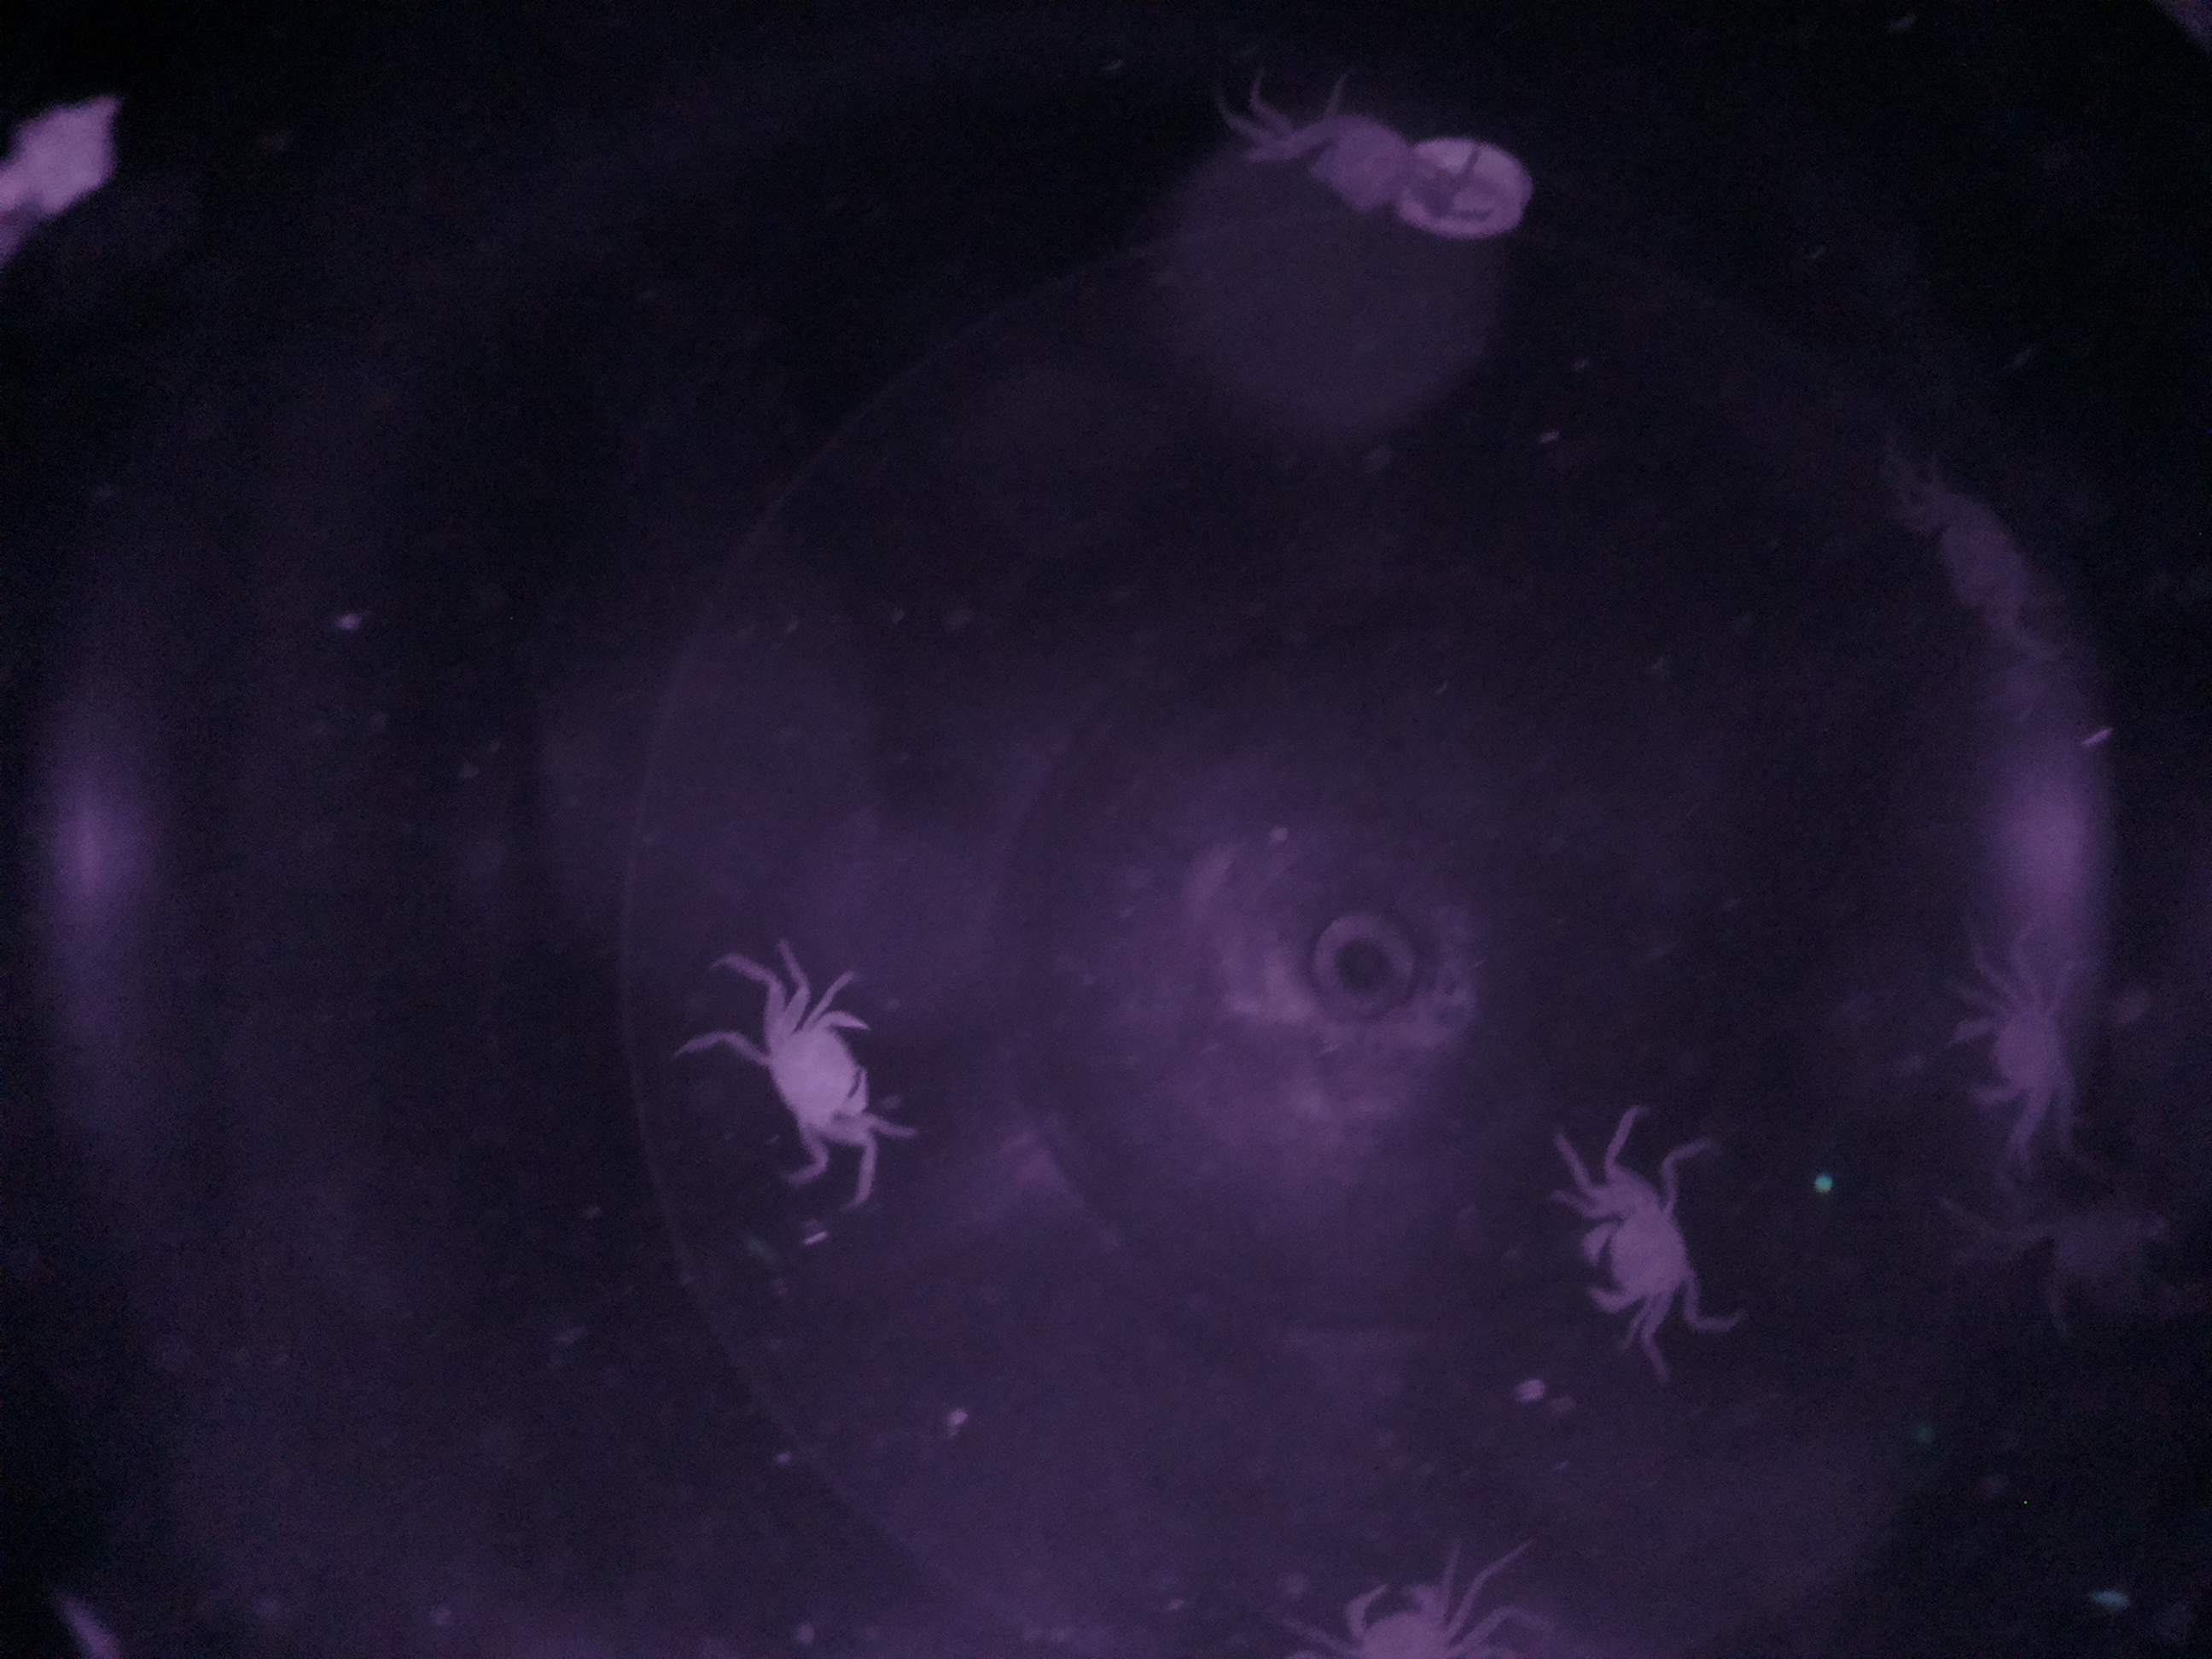Crab: (1559, 1154, 1724, 1364), (749, 974, 902, 1178), (1928, 967, 2095, 1138)
